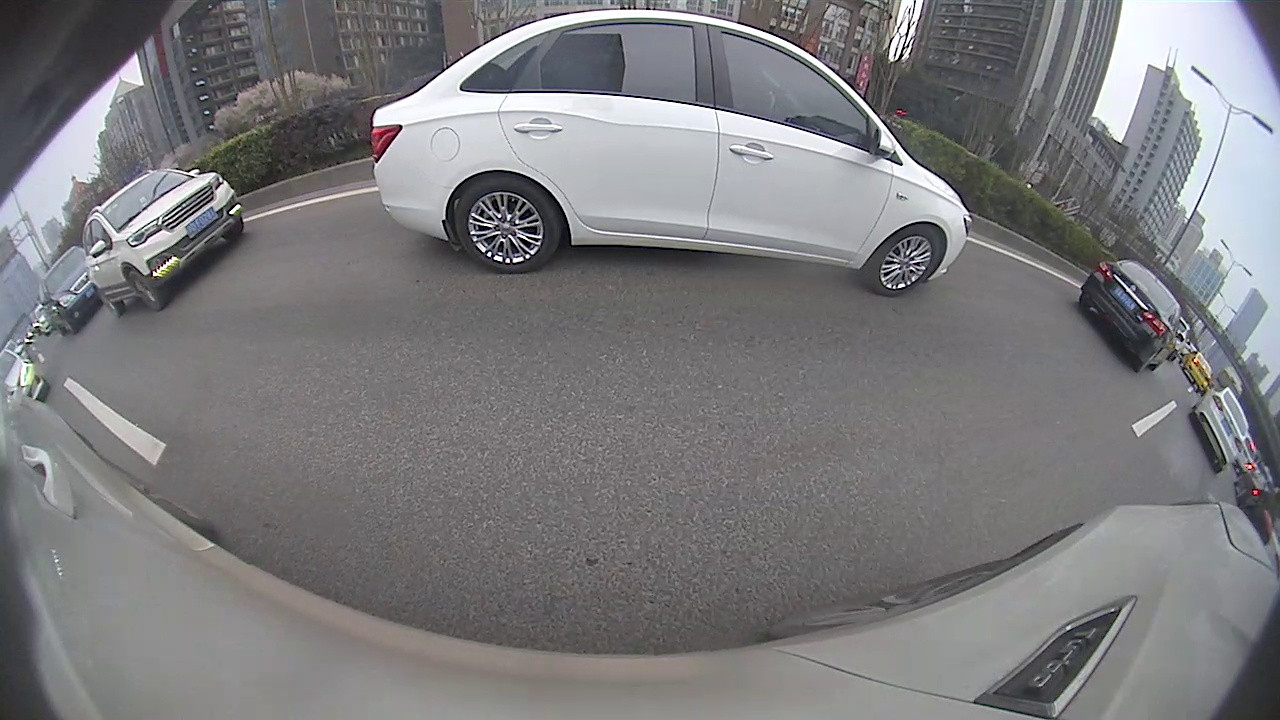car: (369, 8, 973, 296), (81, 167, 244, 318), (1076, 260, 1185, 375), (1188, 384, 1256, 476)
front: (867, 230, 946, 291), (125, 267, 159, 312)
rear: (457, 179, 561, 274)
